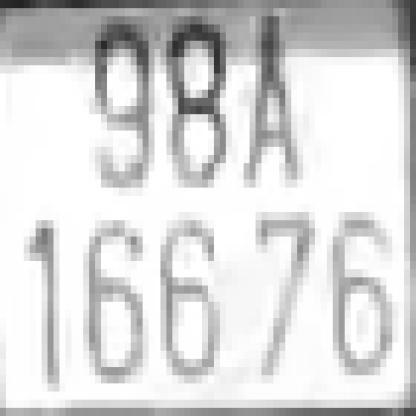1: (24, 212, 71, 392)
6: (83, 212, 149, 375), (327, 204, 386, 367), (160, 212, 214, 375)
7: (250, 204, 309, 367)
8: (166, 24, 220, 188)
9: (89, 24, 149, 196)
A: (232, 8, 297, 196)
